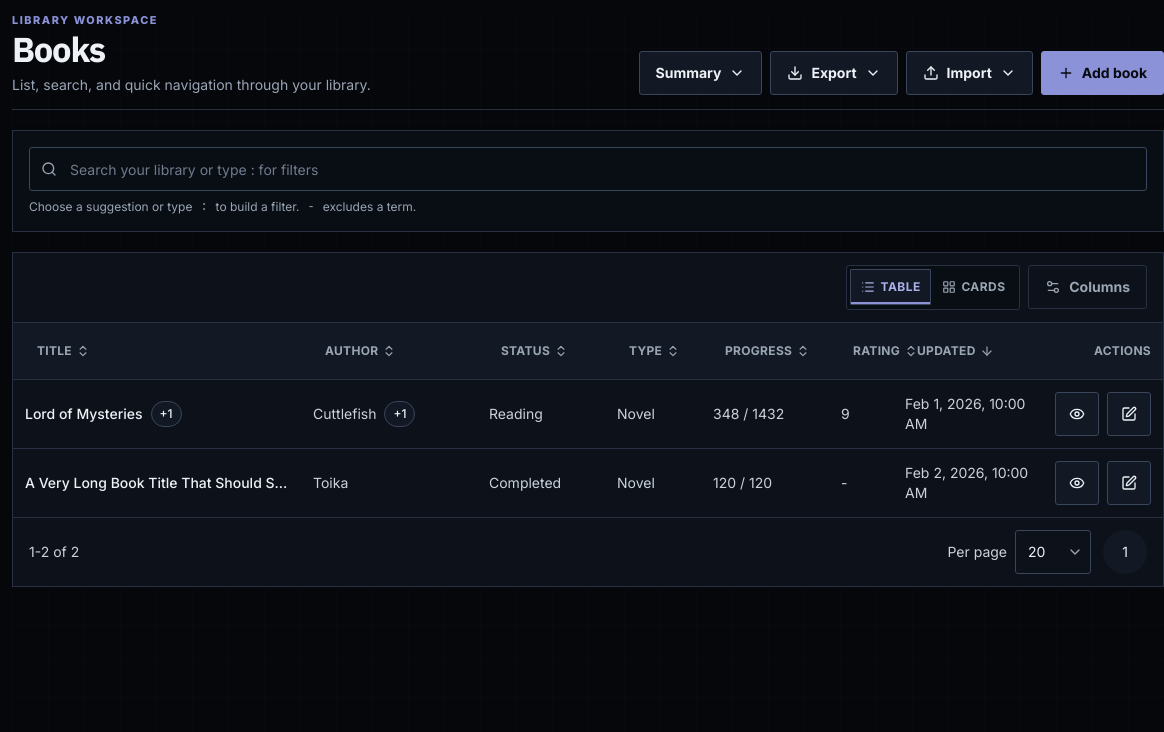
Test: BooksPage › discovers filters and colon-based operators from the search suggestions
The image size is (1164, 732).
Expected: the text "Lord of Mysteries" is shown, 25,404 -> 142,424
Click the dropdown named "search books" at {"x": 588, "y": 169}, box 29,147 -> 1147,191
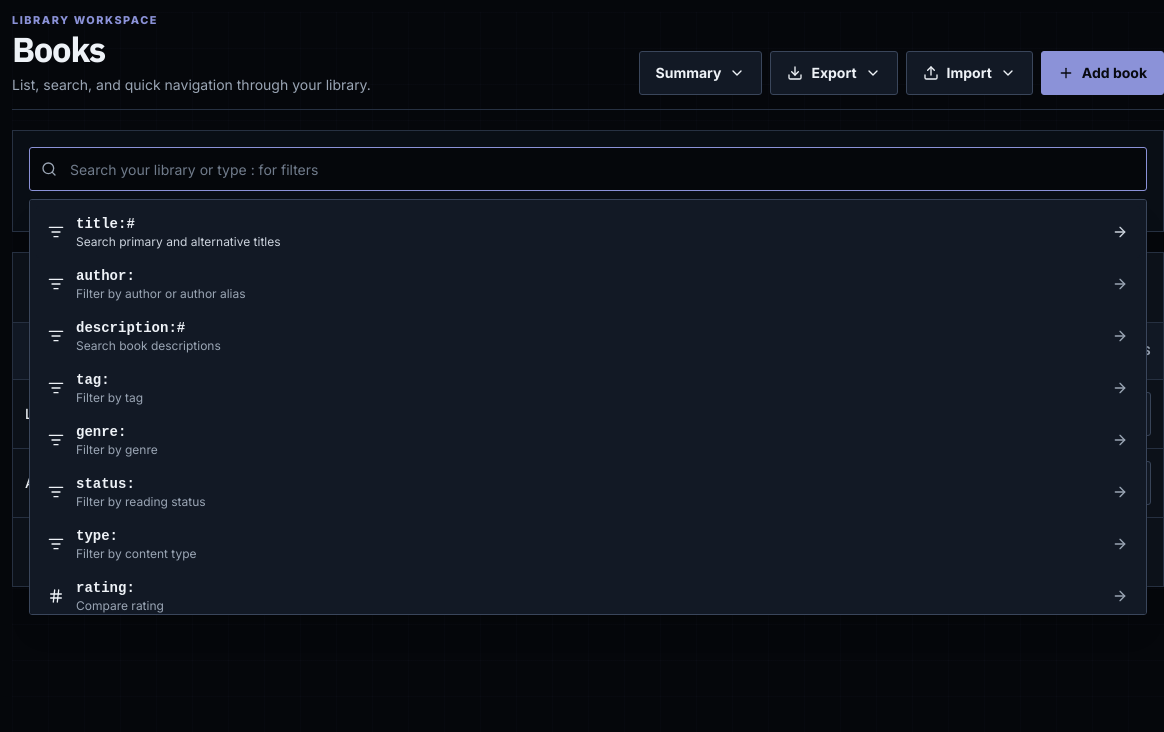
Expected: the option "title:# Search primary and alternative titles" is shown, 36,206 -> 1140,258
Expected: the option "description:# Search book descriptions" is shown, 36,310 -> 1140,362
Click the option "rating: Compare rating" at {"x": 105, "y": 588}, box 36,570 -> 1140,622
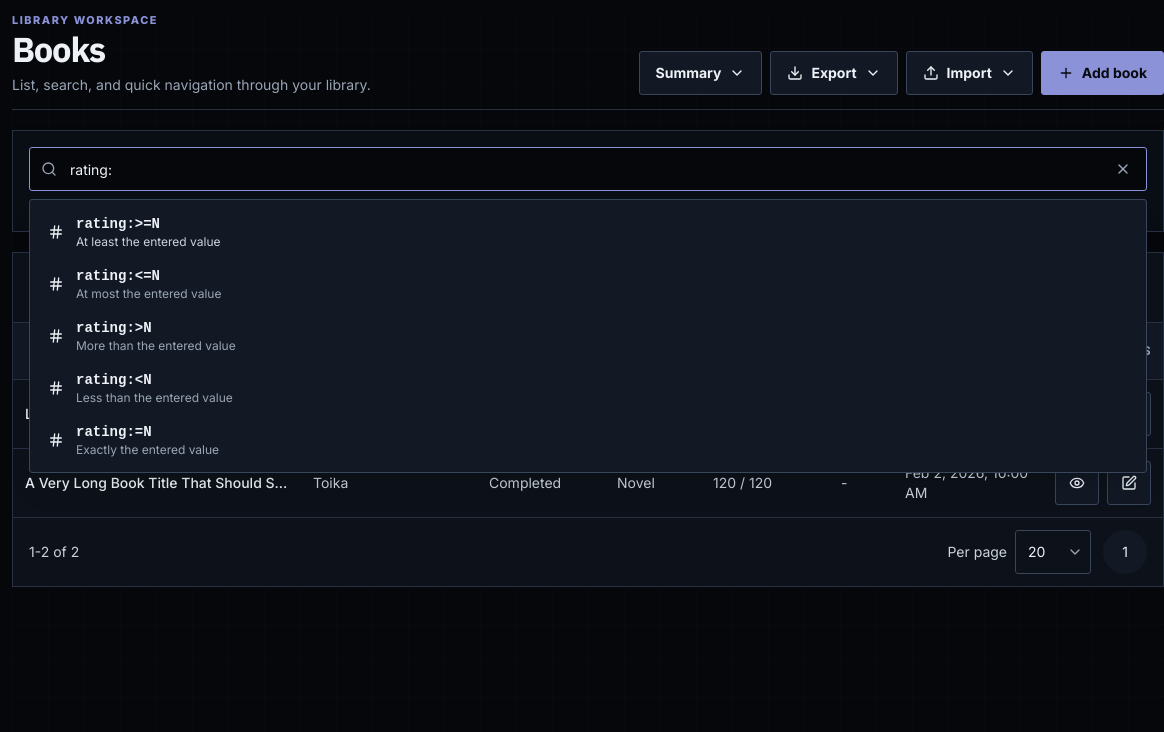
Expected: the dropdown named "search books" holds "rating:", 29,147 -> 1147,191
Expected: the option "rating:>=N At least the entered value" is shown, 36,206 -> 1140,258
Expected: the option "rating:<=N At most the entered value" is shown, 36,258 -> 1140,310
